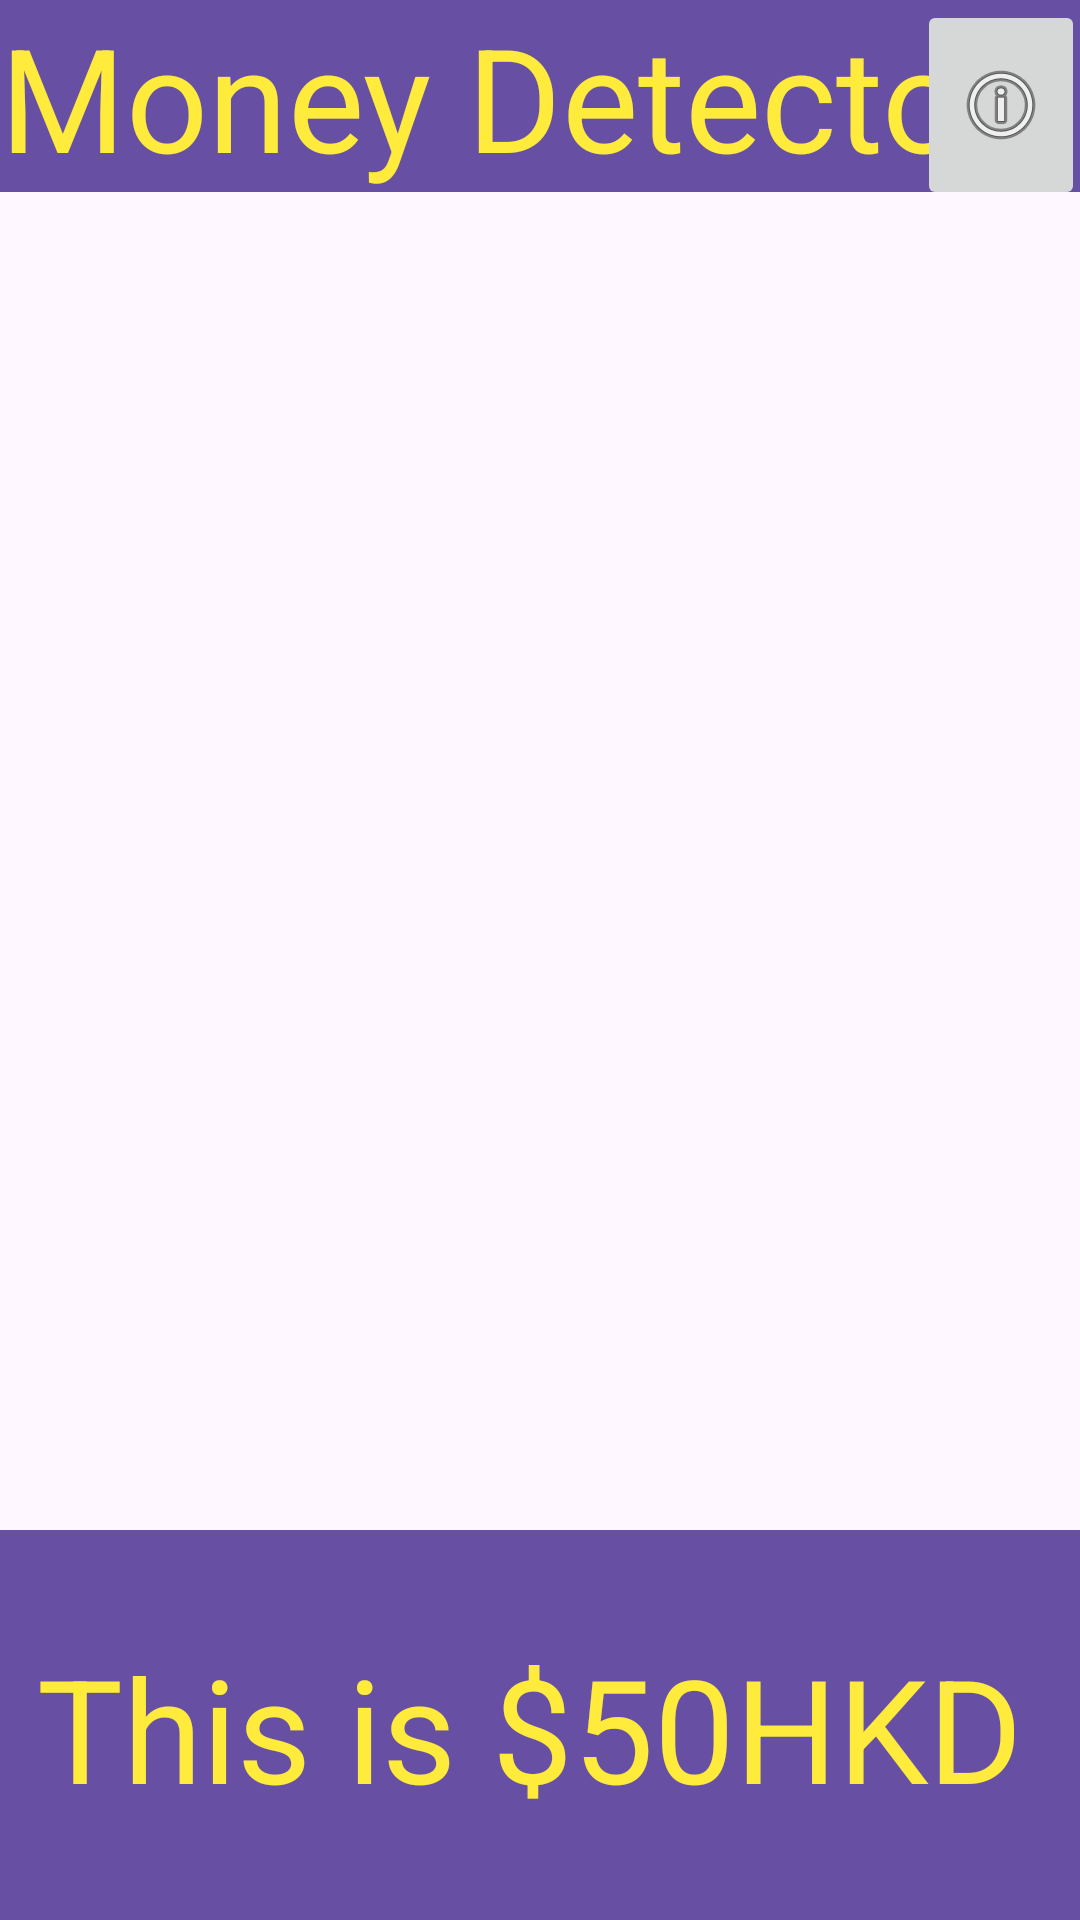

Named icons in this screenshot (1080 × 1920) and their centers, (x=x, y=y):
info details: (x=998, y=105)
